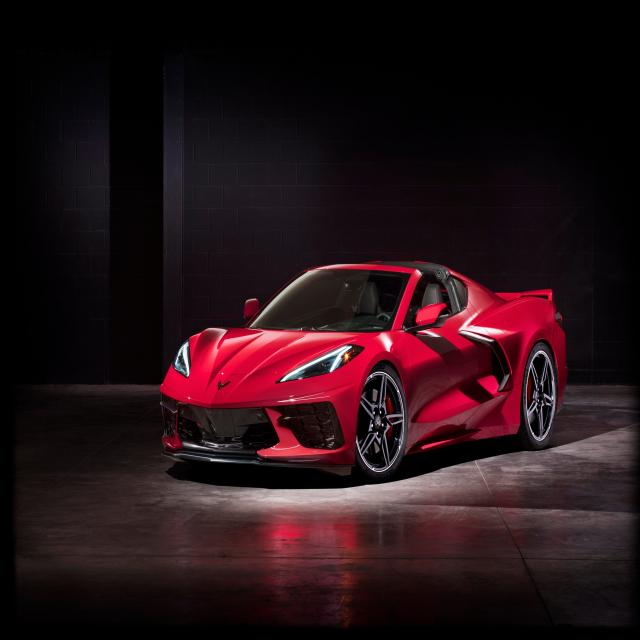car: (136, 220, 584, 509)
